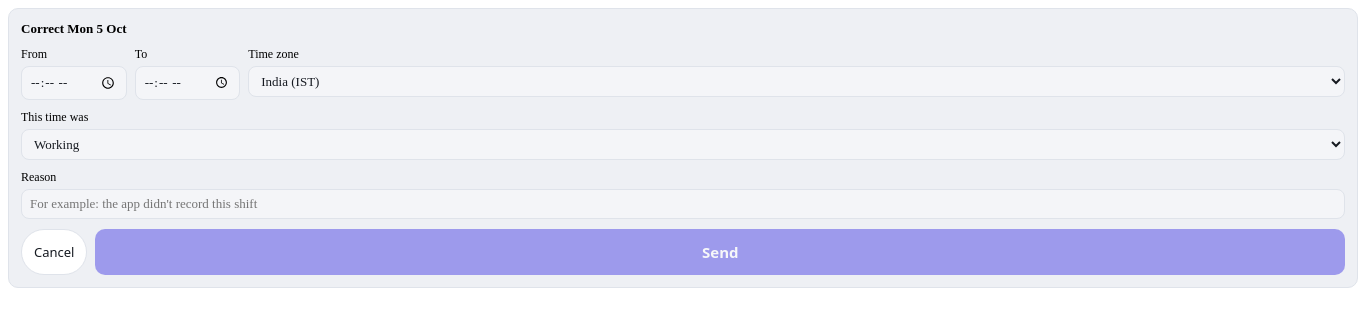
Scenario: CorrectionForm › says why the server refused, in plain words
In the time field named "correction-start": [74, 83] box [21, 66, 127, 100], type "09:00"
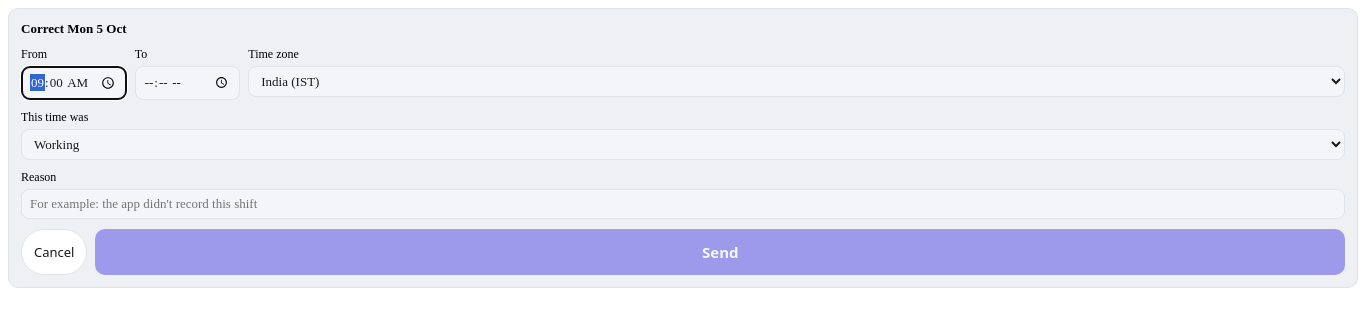
In the time field named "correction-end": [187, 83] box [135, 66, 240, 100], type "10:00"
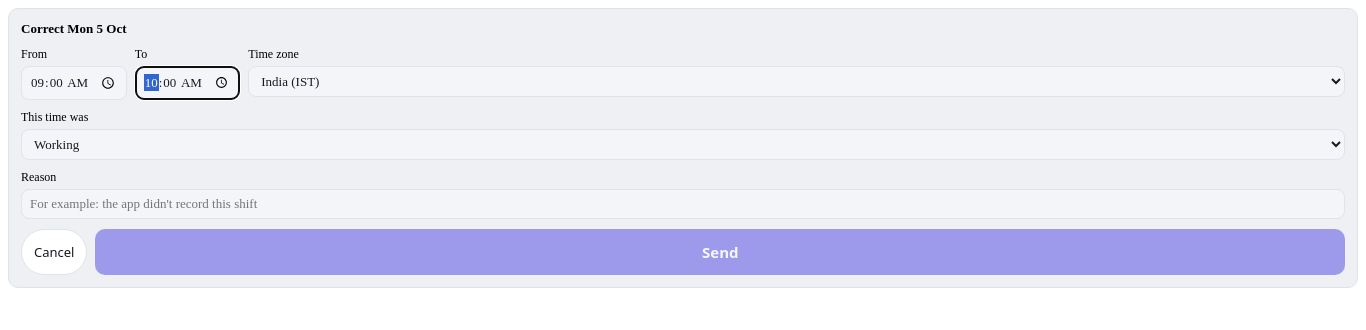
In the field named "correction-reason": [683, 204] box [21, 189, 1345, 219], type "x"
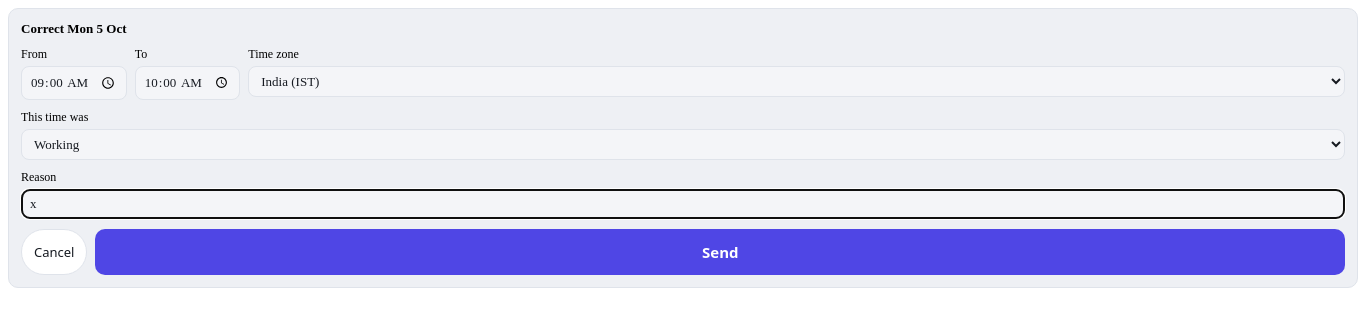
Click the button "Send": [720, 252] box [96, 229, 1345, 275]
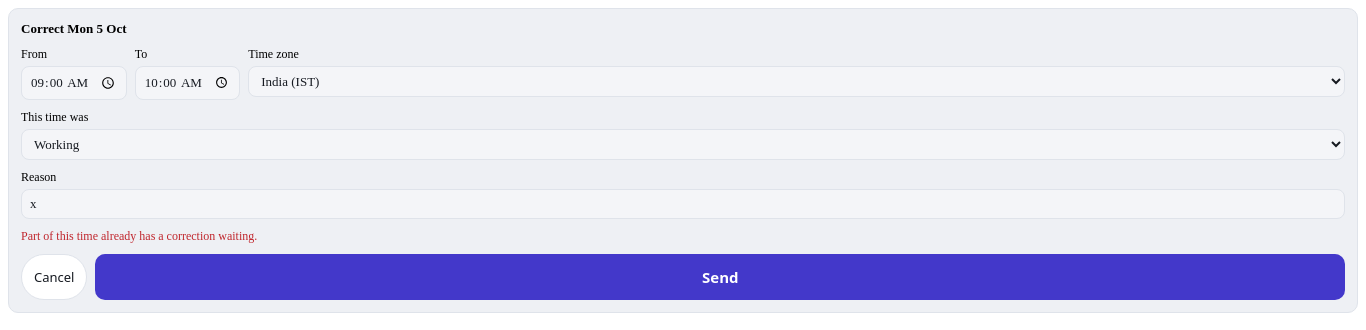
Expected: the message reads "Part of this time already has a correction waiting.", [21, 229, 257, 243]
